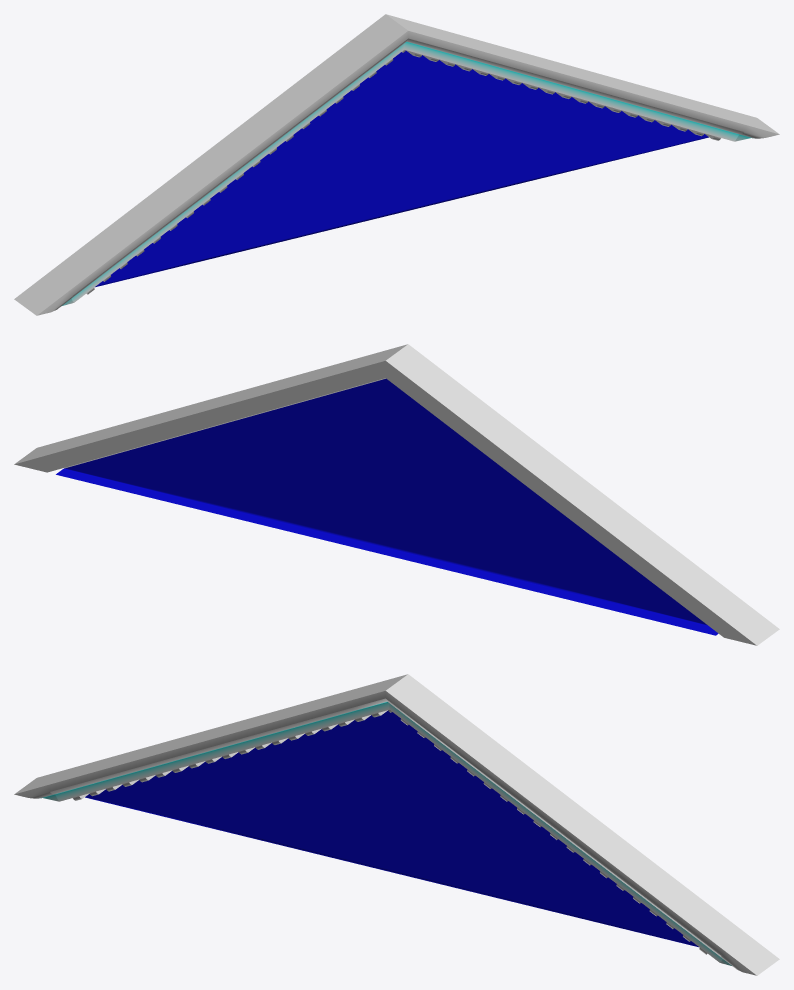
Rendered from SM_RoofEnd18m.fbx.
3 renders of one model, top to bottom at view 1: azimuth 30°, elevation 25°; view 2: azimuth 150°, elevation 25°; view 3: azimuth 330°, elevation 25°, orthographic.
Visible parts, largest first — view 1: SM_RoofEnd18m; view 2: SM_RoofEnd18m; view 3: SM_RoofEnd18m.
Part boxes in pixels (x1=…): SM_RoofEnd18m: x1=14, y1=14, x2=779, y2=315; SM_RoofEnd18m: x1=14, y1=344, x2=779, y2=645; SM_RoofEnd18m: x1=14, y1=674, x2=779, y2=975.
Size of the model in its own units: 2004 by 501 by 106.
